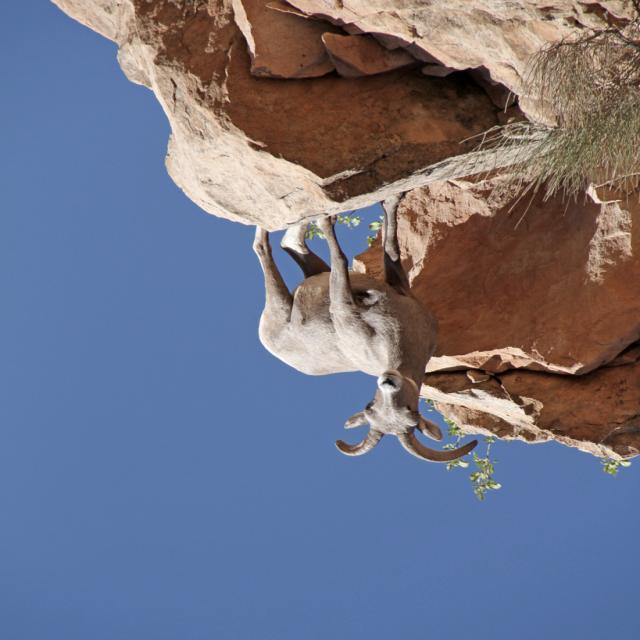Goat: (251, 191, 477, 464)
